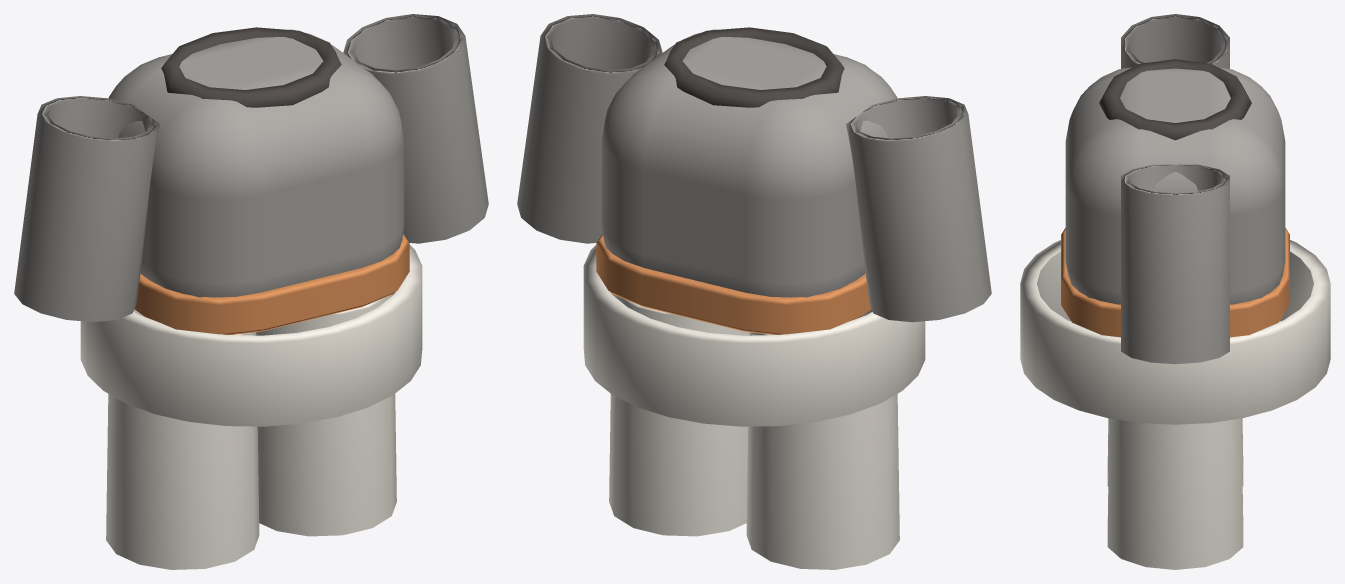
File: baseball_uniform.glb
3 views of the same model, side by side, from view 1: azimuth 30°, elevation 25°; view 2: azimuth 150°, elevation 25°; view 3: azimuth 270°, elevation 25° (orthographic). The views are drawn at different scales.
Parts seen in each view (by area): view 1: baseball_uniform_Body, baseball_uniform_ArmL, baseball_uniform_LegL, baseball_uniform_ArmR, baseball_uniform_LegR; view 2: baseball_uniform_Body, baseball_uniform_ArmL, baseball_uniform_LegL, baseball_uniform_ArmR, baseball_uniform_LegR; view 3: baseball_uniform_Body, baseball_uniform_ArmR, baseball_uniform_LegR, baseball_uniform_ArmL.
Boxes of the visible parts, x1=… form: baseball_uniform_Body: x1=80, y1=27, x2=422, y2=426; baseball_uniform_ArmL: x1=14, y1=96, x2=159, y2=322; baseball_uniform_LegL: x1=106, y1=309, x2=259, y2=569; baseball_uniform_ArmR: x1=343, y1=14, x2=488, y2=243; baseball_uniform_LegR: x1=256, y1=294, x2=396, y2=536; baseball_uniform_Body: x1=583, y1=27, x2=925, y2=426; baseball_uniform_ArmL: x1=846, y1=96, x2=991, y2=322; baseball_uniform_LegL: x1=746, y1=309, x2=899, y2=569; baseball_uniform_ArmR: x1=517, y1=14, x2=662, y2=243; baseball_uniform_LegR: x1=609, y1=294, x2=749, y2=536; baseball_uniform_Body: x1=1020, y1=59, x2=1330, y2=424; baseball_uniform_ArmR: x1=1121, y1=164, x2=1229, y2=364; baseball_uniform_LegR: x1=1107, y1=418, x2=1243, y2=569; baseball_uniform_ArmL: x1=1121, y1=14, x2=1229, y2=68.
Size of the model in its own units: 0.6334 by 0.6069 by 0.41.
